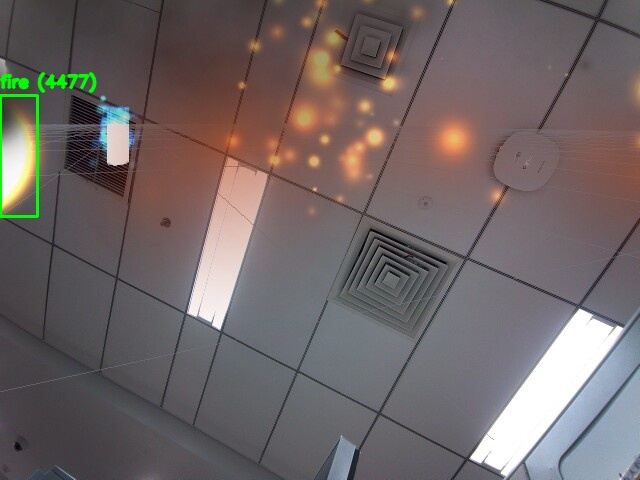fire: (0, 95, 37, 216)
